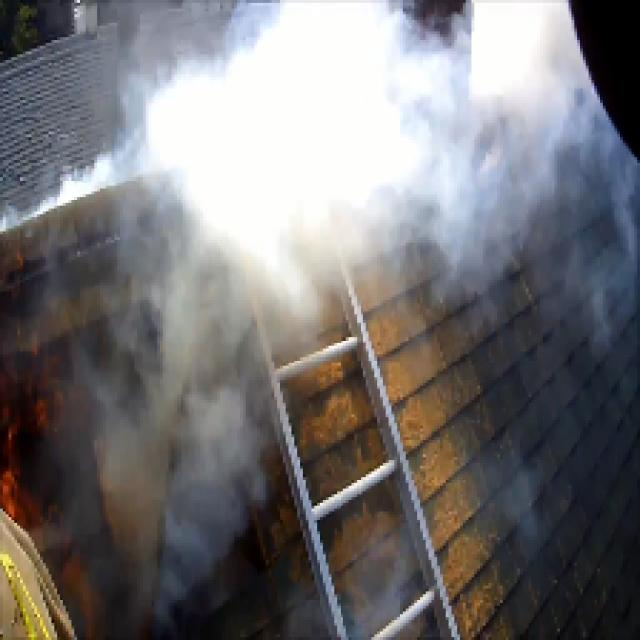smoke: (94, 225, 269, 607), (419, 24, 587, 264)
